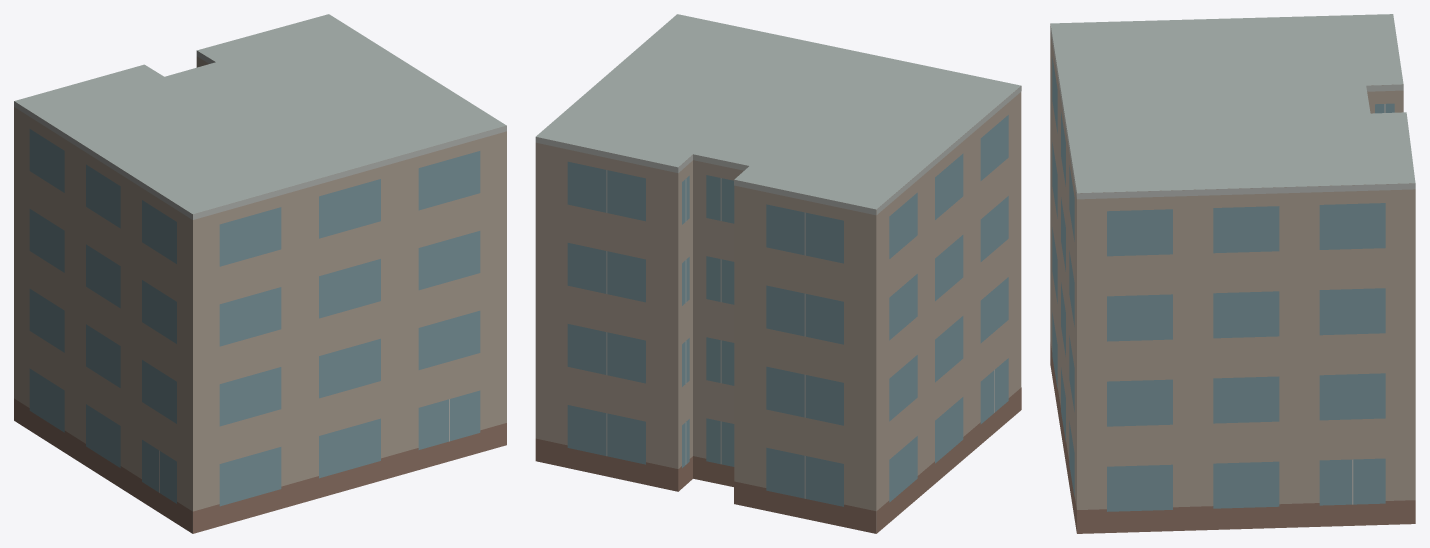
The model's file is survey-upis-32929913.glb.
3 views of the same model, side by side, from view 1: azimuth 30°, elevation 25°; view 2: azimuth 150°, elevation 25°; view 3: azimuth 270°, elevation 25° (orthographic). The views are drawn at different scales.
Parts seen in each view (by area): view 1: survey-upis-32929913.tmp; view 2: survey-upis-32929913.tmp; view 3: survey-upis-32929913.tmp.
Part boxes in pixels (bbox=[...]): survey-upis-32929913.tmp: bbox=[14, 14, 506, 533]; survey-upis-32929913.tmp: bbox=[535, 14, 1021, 533]; survey-upis-32929913.tmp: bbox=[1050, 14, 1415, 533].
Bounding box in the file's own units: 15.24 × 13.5 × 13.13.
